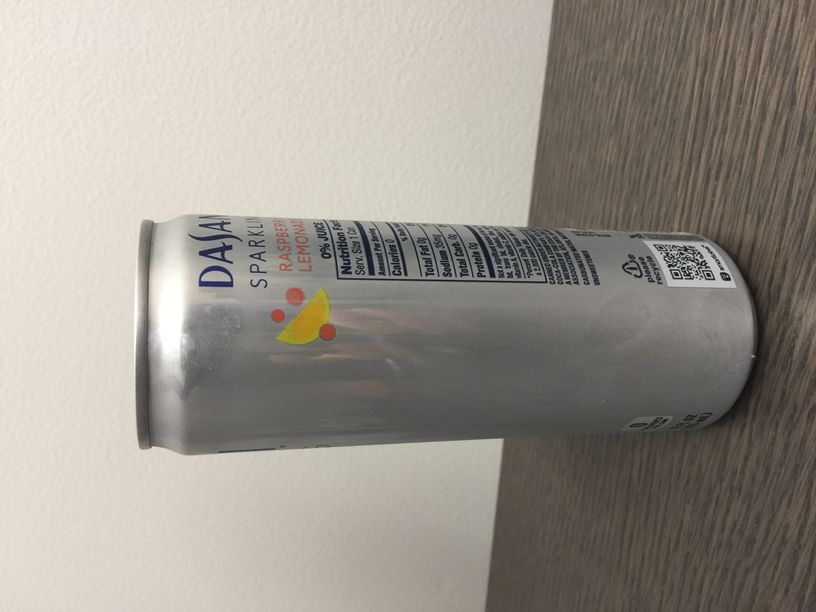lemonade: (133, 211, 760, 455)
